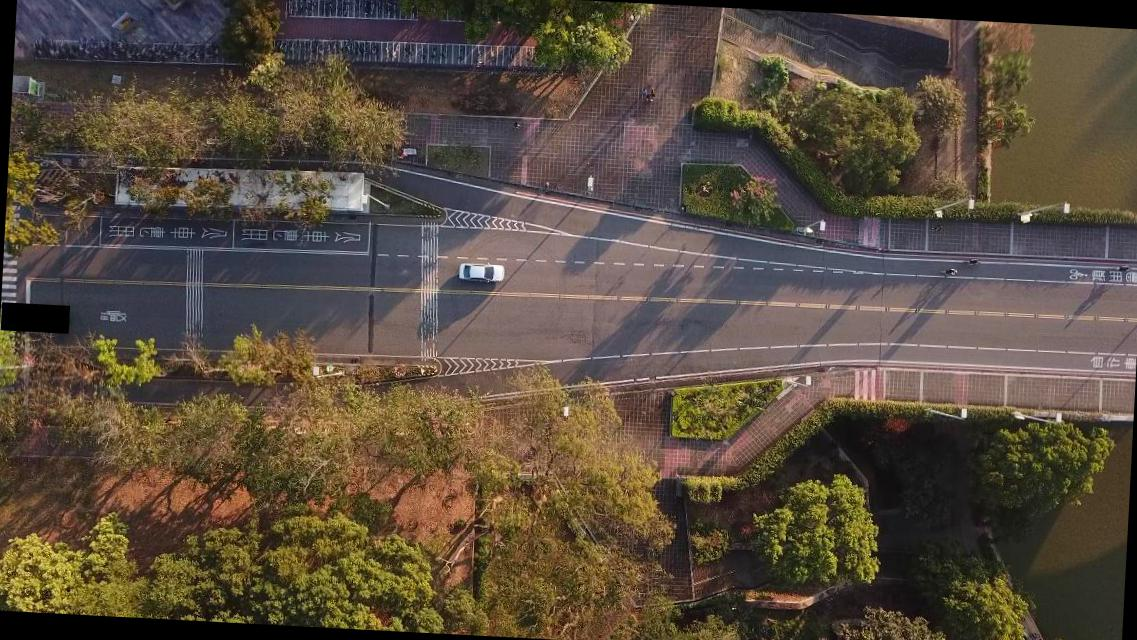vehicle: (458, 262, 504, 282)
